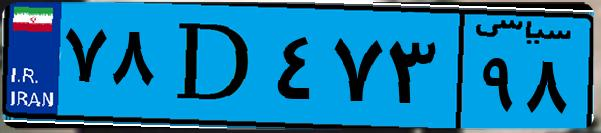3: (385, 28, 445, 110)
4: (270, 28, 330, 110)
7: (330, 28, 385, 110), (57, 26, 110, 100)
8: (525, 38, 570, 115), (110, 28, 158, 98)
9: (475, 38, 525, 113)
D: (158, 12, 270, 120)
